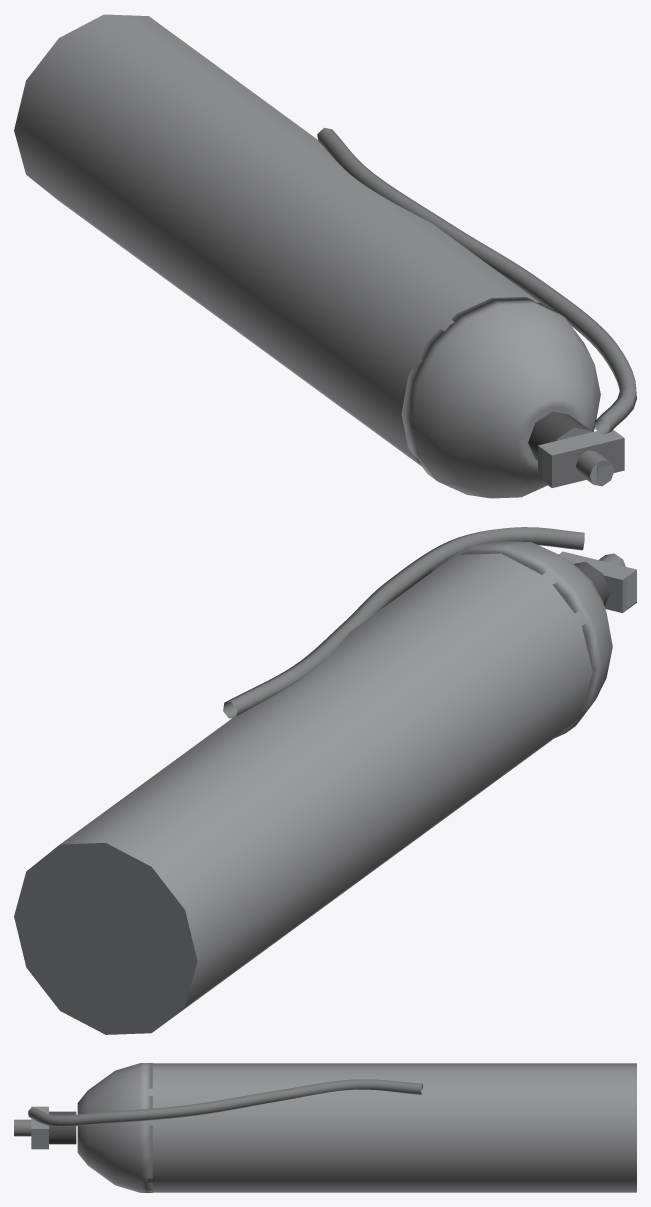
3 renders of one model, top to bottom at view 1: azimuth 30°, elevation 25°; view 2: azimuth 150°, elevation 25°; view 3: azimuth 270°, elevation 25°, orthographic. The views are drawn at different scales.
Size of the model in its own units: 0.221 by 0.2225 by 1.06.
